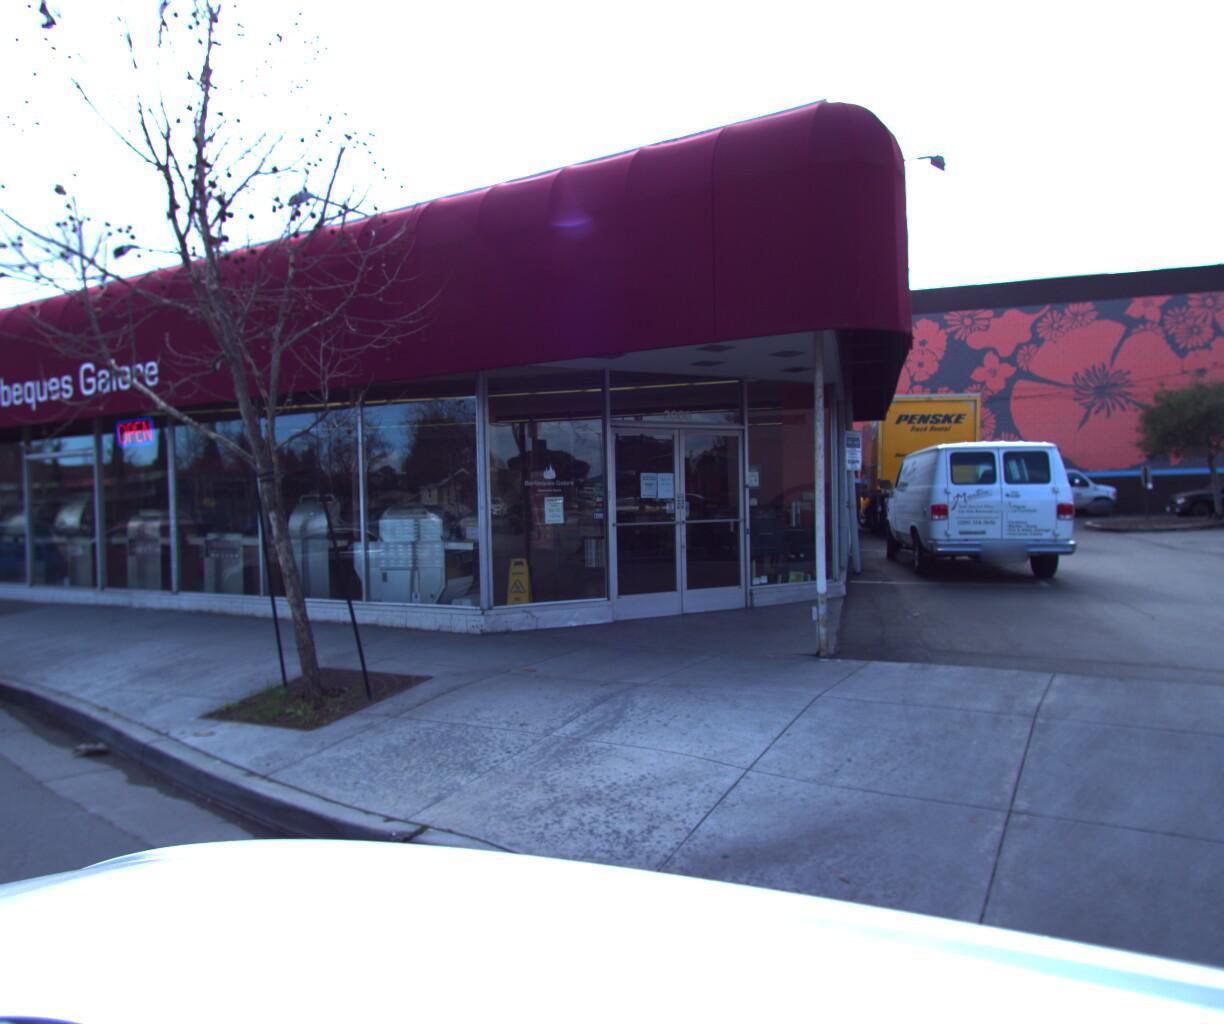car: (879, 423, 1085, 578)
